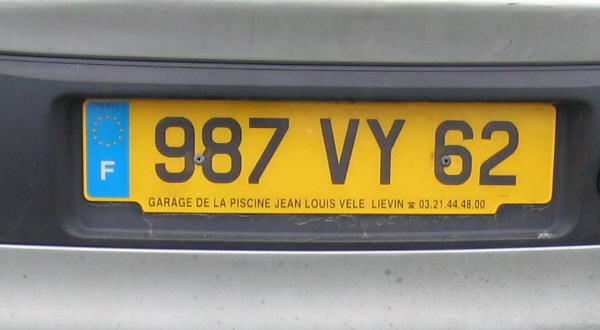license_plate: (81, 94, 556, 212)
